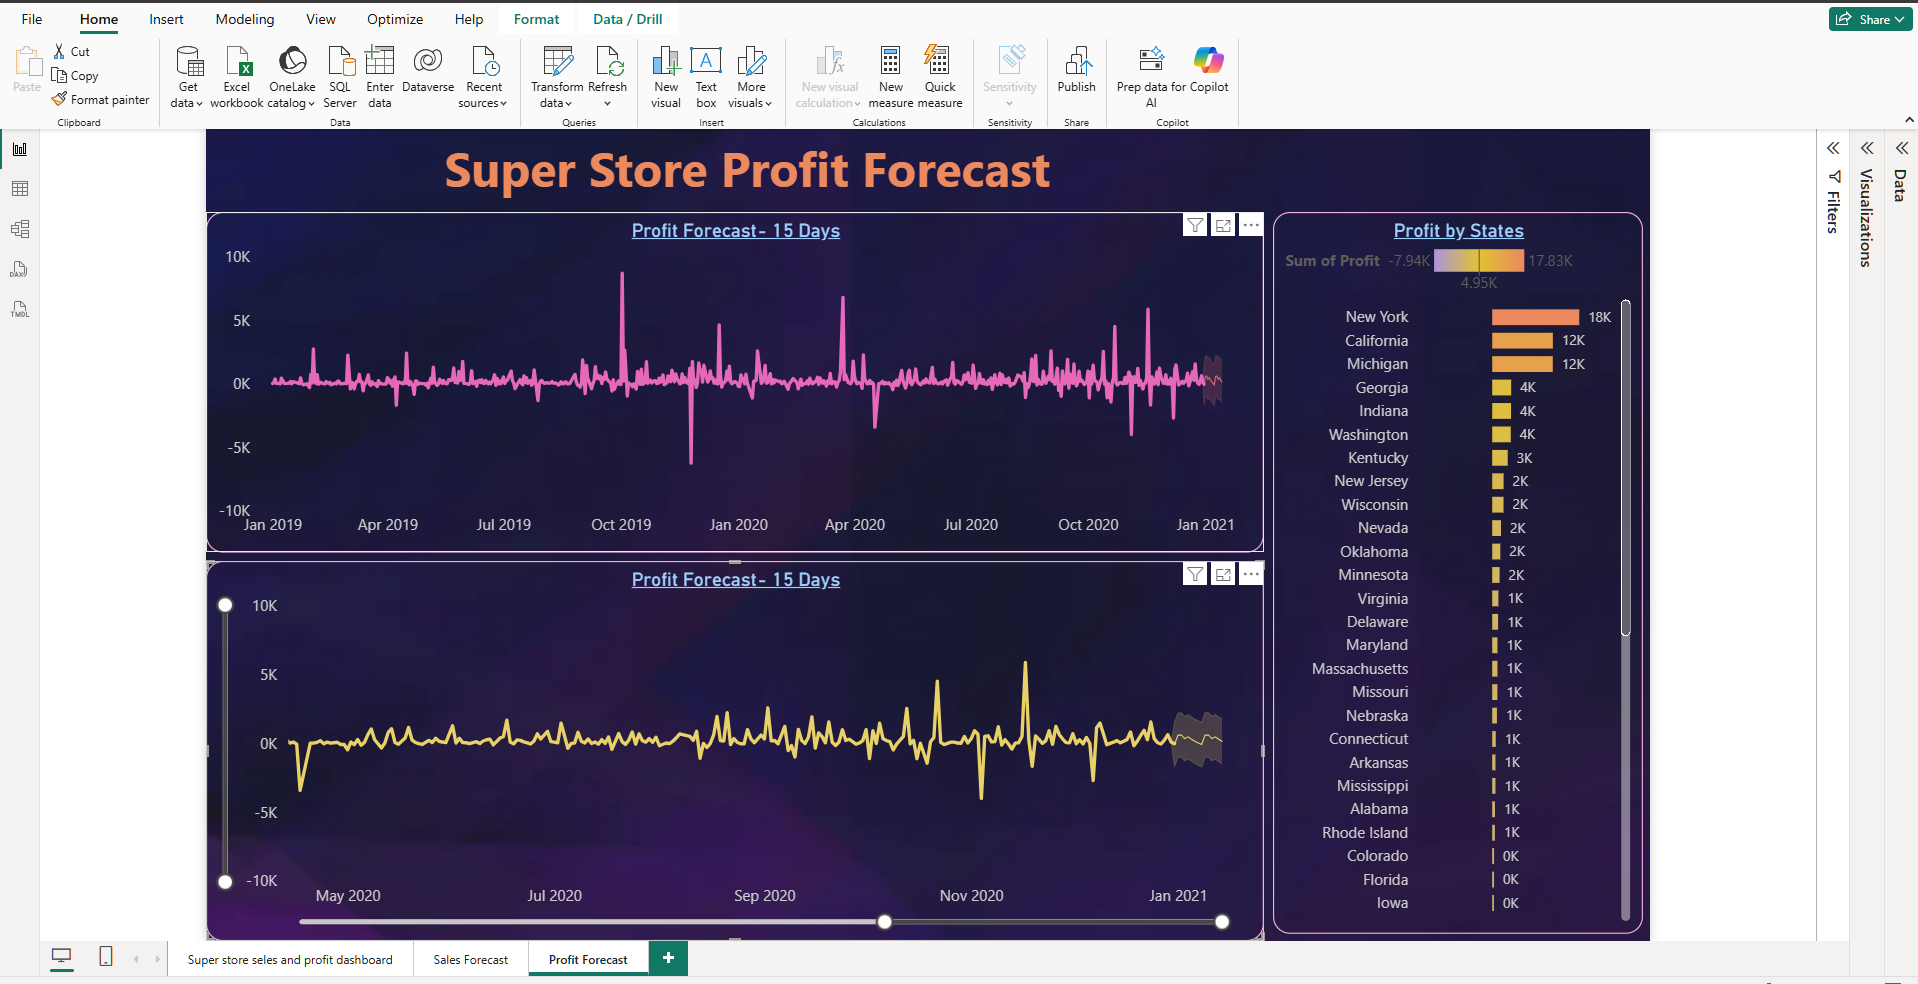

This screenshot's page, from the dashboard's own definition file:
{"tool":"powerbi","page":{"name":"Profit Forecast","canvas":[1280,720],"ordinal":2},"visuals":[{"type":"lineChart","title":"Profit Forecast- 15 Days","fields":{"Category":["SuperStore_Sales_Dataset.Order Date Hierarchy.Order Date"],"Y":["Sum(SuperStore_Sales_Dataset.Profit)"]},"box":[0,73.2,937.9,301.9],"z":0},{"type":"lineChart","title":"Profit Forecast- 15 Days","fields":{"Category":["SuperStore_Sales_Dataset.Order Date Hierarchy.Order Date"],"Y":["Sum(SuperStore_Sales_Dataset.Profit)"]},"box":[0,383.2,937.9,336.7],"z":1000},{"type":"clusteredBarChart","title":"Profit by States","fields":{"Category":["SuperStore_Sales_Dataset.State"],"Y":["Sum(SuperStore_Sales_Dataset.Profit)"]},"box":[945.9,73.2,327.8,639.6],"z":2000},{"type":"textbox","box":[0,0,971.8,73.2],"z":3000}]}

Visuals, with their boxes on the page's 1280x720 design canvas (x1, y1, x2, y2). These are canvas units, not pixel positions in the 1918x984 screenshot, which may show the page scaled, cropped or inside an application window:
"Profit Forecast- 15 Days" lineChart: box(0, 73, 938, 375)
"Profit Forecast- 15 Days" lineChart: box(0, 383, 938, 720)
"Profit by States" clusteredBarChart: box(946, 73, 1274, 713)
textbox: box(0, 0, 972, 73)
